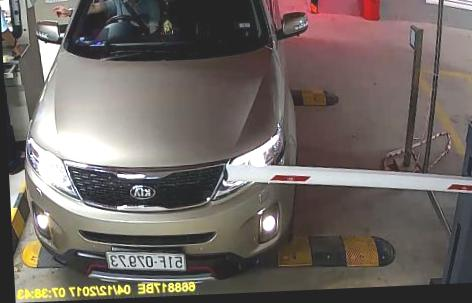License_Plate: (103, 246, 188, 275)
